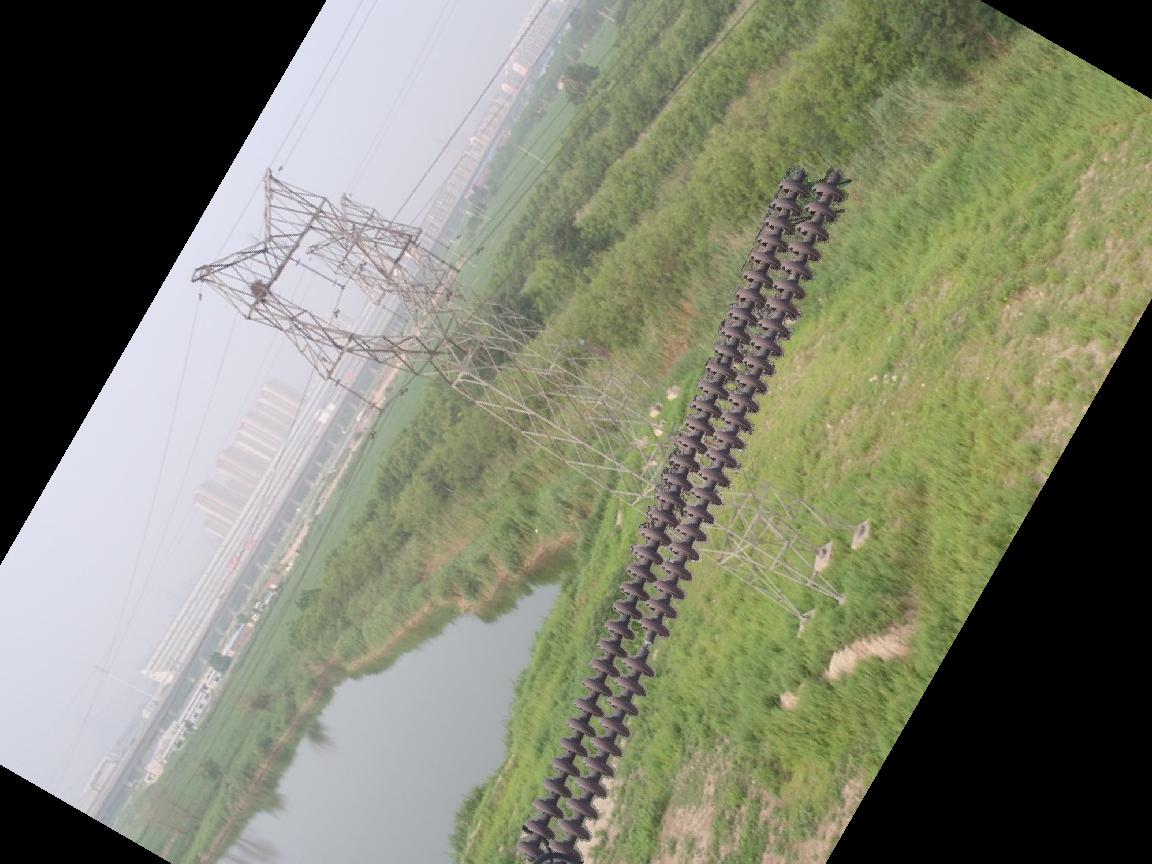insulator: (510, 163, 853, 864)
insulator_stringdrop: (621, 614, 675, 683)
